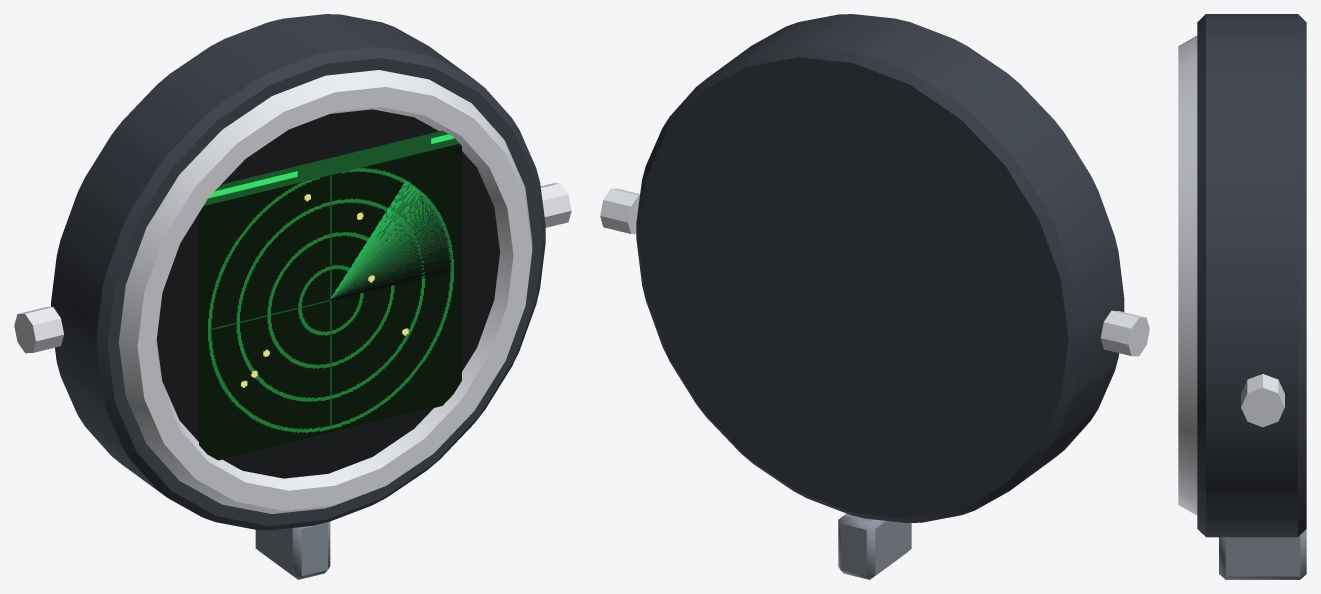
Rendered from instrument_radar_scope.glb.
3 views of the same model, side by side, from view 1: azimuth 30°, elevation 25°; view 2: azimuth 150°, elevation 25°; view 3: azimuth 270°, elevation 25° (orthographic). The views are drawn at different scales.
Visible parts, largest first — view 1: instrument_radar_scope; view 2: instrument_radar_scope; view 3: instrument_radar_scope.
Boxes of the visible parts, box(x1,y1,x2,y2) form: instrument_radar_scope: box(14, 14, 571, 579); instrument_radar_scope: box(600, 14, 1149, 579); instrument_radar_scope: box(1178, 14, 1306, 579).
Size of the model in its own units: 0.57 by 0.539 by 0.1173.
Materials: 5 (1 with a texture image).
